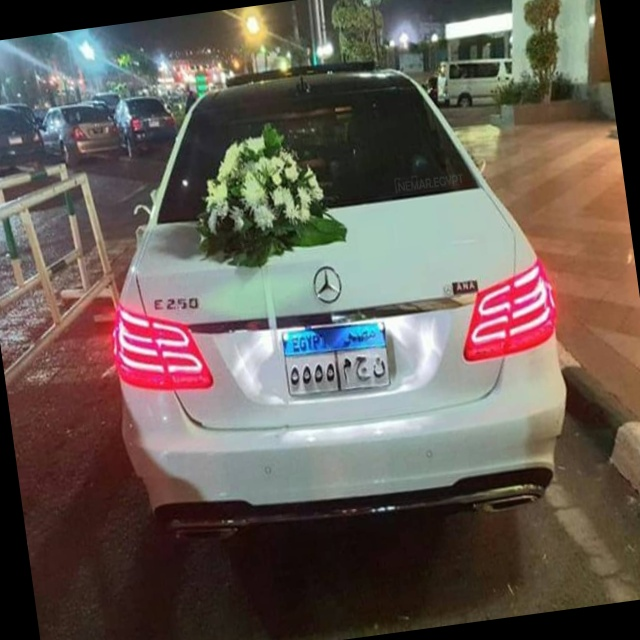License Plate: (278, 315, 395, 403)
